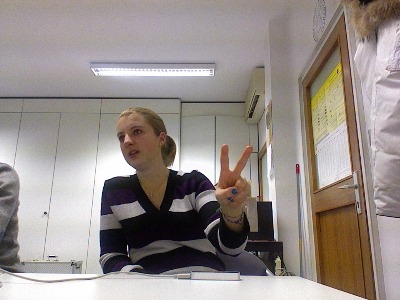剪刀: (214, 143, 253, 210)
